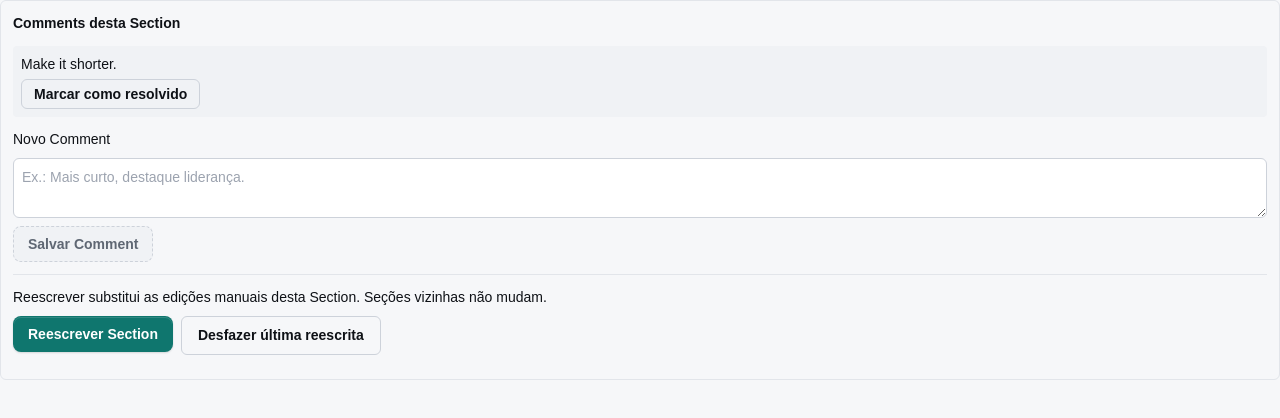
Test case: CommentPanel › should resolve an open comment
What coordinates should you click on to do the following:
click the button "Marcar como resolvido"
I would click on:
 (111, 94)
Its box is [21,79,200,109].
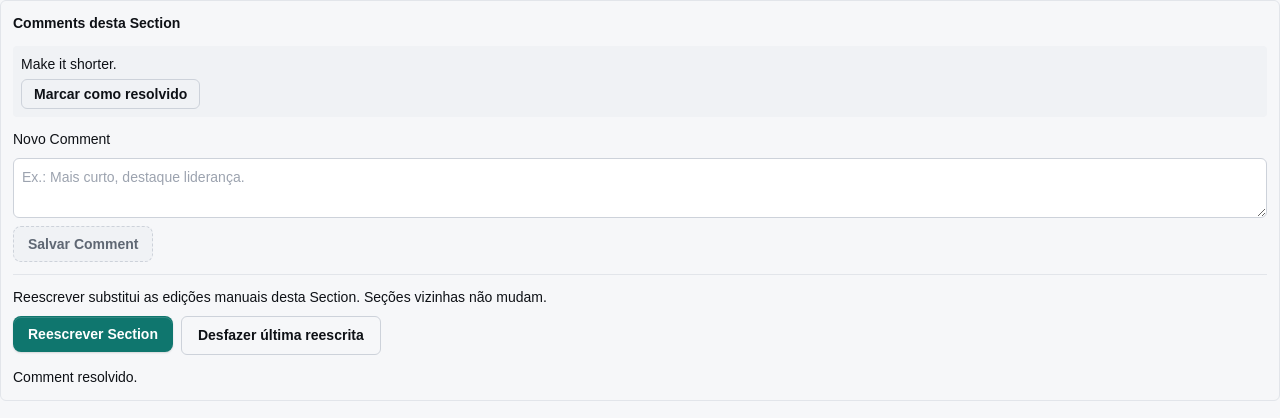
Result: the message reads "Comment resolvido." at [13,369,138,385]
